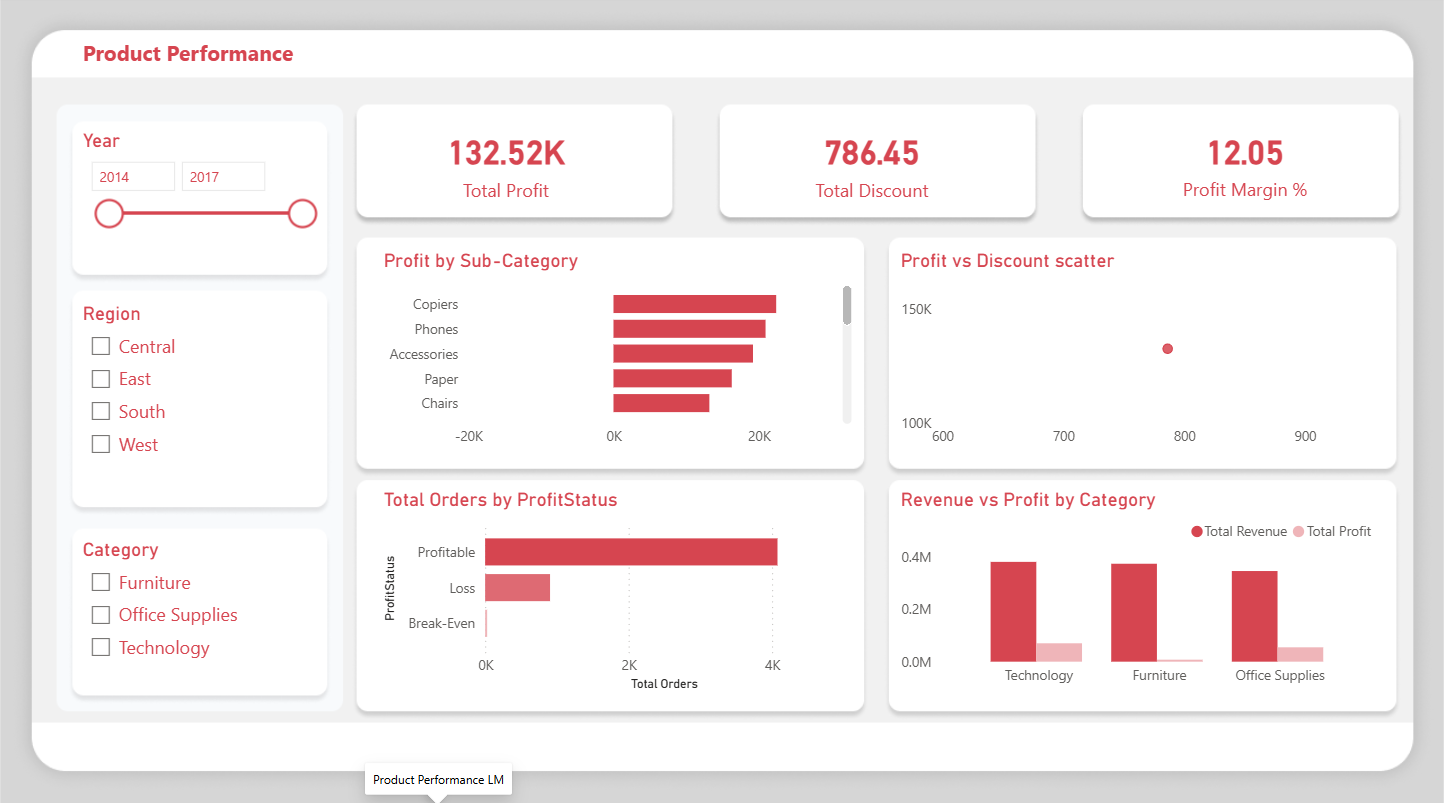

Layout of this report page (visuals, bound fields, positions):
{"tool":"powerbi","page":{"name":"Product Performance LM","canvas":[1280,720],"ordinal":3},"visuals":[{"type":"slicer","title":"Year","fields":{"Values":["DimDate.Year"]},"box":[68,118,221,123],"z":0},{"type":"slicer","title":"Region ","fields":{"Values":["DimRegion.Region"]},"box":[68.3,271.3,220.8,178.2],"z":1000},{"type":"slicer","title":"Category ","fields":{"Values":["DimProduct.Category"]},"box":[68.3,480.6,220.8,130.3],"z":2000},{"type":"card","fields":{"Values":["DaxMeasures.Total Discount"]},"box":[660,106,227,82],"z":3000},{"type":"card","fields":{"Values":["DaxMeasures.Profit Margin %"]},"box":[990.4,106.4,227,81.6],"z":4000},{"type":"card","fields":{"Values":["DaxMeasures.Total Profit"]},"box":[335,106,227,82],"z":5000},{"type":"clusteredBarChart","title":"Profit by Sub-Category","fields":{"Category":["DimProduct.SubCategory"],"Y":["DaxMeasures.Total Profit"]},"box":[335,224,425,184],"z":6000},{"type":"barChart","fields":{"Category":["Fact.ProfitStatus"],"Y":["DaxMeasures.Total Orders"]},"box":[335,436,425,184],"z":7000},{"type":"scatterChart","title":"Profit vs Discount scatter","fields":{"X":["DaxMeasures.Total Discount"],"Y":["DaxMeasures.Total Profit"]},"box":[794,224,432,184],"z":8000},{"type":"clusteredColumnChart","title":"Revenue vs Profit by Category","fields":{"Category":["DimProduct.Category"],"Y":["DaxMeasures.Total Revenue","DaxMeasures.Total Profit"]},"box":[794,436,432,184],"z":9000},{"type":"textbox","box":[68.3,32.8,300.6,37.2],"z":10000}]}

Visuals, with their boxes in screenshot pixels (x1, y1, x2, y2), scaled from the page's 1280x720 canvas onto the 1444x803 screenshot:
"Year" slicer: {"x1": 77, "y1": 132, "x2": 326, "y2": 269}
"Region " slicer: {"x1": 77, "y1": 303, "x2": 326, "y2": 501}
"Category " slicer: {"x1": 77, "y1": 536, "x2": 326, "y2": 681}
card - DaxMeasures.Total Discount: {"x1": 745, "y1": 118, "x2": 1001, "y2": 210}
card - DaxMeasures.Profit Margin %: {"x1": 1117, "y1": 119, "x2": 1373, "y2": 210}
card - DaxMeasures.Total Profit: {"x1": 378, "y1": 118, "x2": 634, "y2": 210}
"Profit by Sub-Category" clusteredBarChart: {"x1": 378, "y1": 250, "x2": 857, "y2": 455}
barChart - Fact.ProfitStatus x DaxMeasures.Total Orders: {"x1": 378, "y1": 486, "x2": 857, "y2": 691}
"Profit vs Discount scatter" scatterChart: {"x1": 896, "y1": 250, "x2": 1383, "y2": 455}
"Revenue vs Profit by Category" clusteredColumnChart: {"x1": 896, "y1": 486, "x2": 1383, "y2": 691}
textbox: {"x1": 77, "y1": 37, "x2": 416, "y2": 78}
